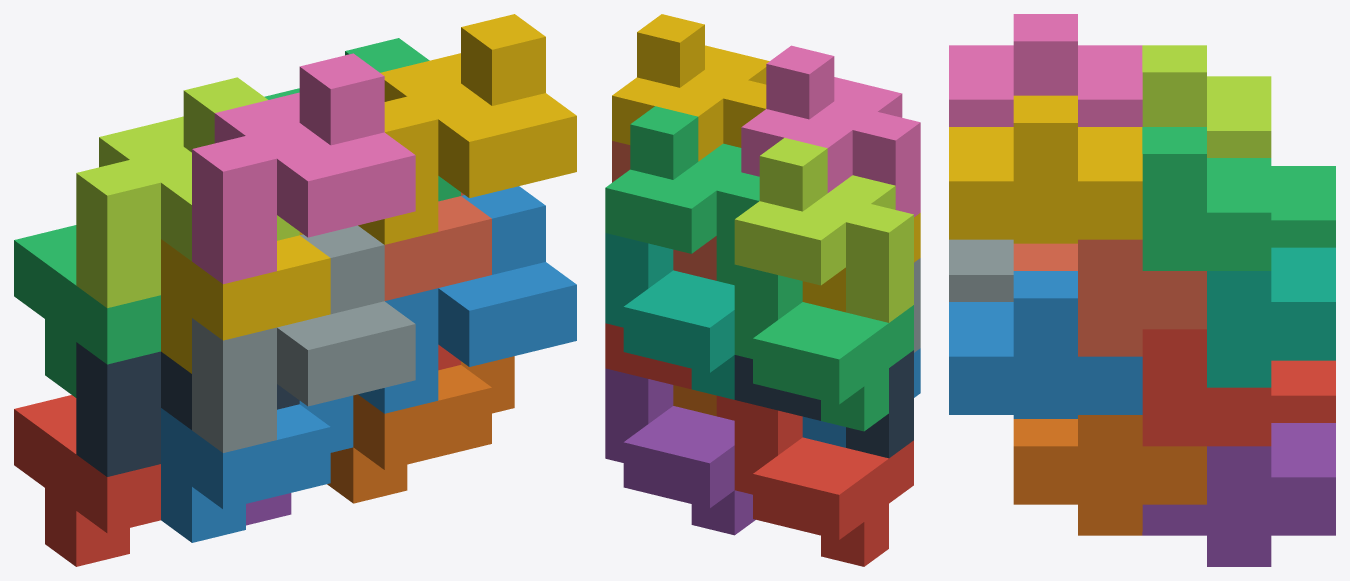
Rendered from tiling.obj.
The picture shows the model from 3 angles, left to right: view 1: azimuth 30°, elevation 25°; view 2: azimuth 150°, elevation 25°; view 3: azimuth 270°, elevation 25°; orthographic projection. The views are drawn at different scales.
Visible parts, largest first — view 1: copy_2_domain_4, copy_2_domain_8, copy_2_domain_2, copy_2_domain_3, copy_2_domain_6, copy_1_domain_2, copy_1_domain_1, copy_1_domain_6, copy_1_domain_4, copy_1_domain_3, copy_2_domain_1, copy_1_domain_8 (+2 smaller); view 2: copy_2_domain_3, copy_1_domain_1, copy_1_domain_3, copy_2_domain_4, copy_2_domain_7, copy_1_domain_5, copy_1_domain_7, copy_2_domain_8, copy_2_domain_1, copy_2_domain_5, copy_1_domain_8, copy_1_domain_4 (+3 smaller); view 3: copy_2_domain_8, copy_2_domain_6, copy_1_domain_6, copy_1_domain_5, copy_2_domain_7, copy_2_domain_4, copy_1_domain_7, copy_1_domain_8, copy_2_domain_5, copy_2_domain_3, copy_1_domain_3, copy_1_domain_1 (+1 smaller).
Part boxes in pixels (x1,y1,x2,y2): copy_2_domain_4: (192,53,415,284); copy_2_domain_8: (358,14,576,244); copy_2_domain_2: (192,225,415,452); copy_2_domain_3: (76,77,299,308); copy_2_domain_6: (358,186,576,413); copy_1_domain_2: (161,395,353,542); copy_1_domain_1: (14,395,160,566); copy_1_domain_6: (327,356,514,503); copy_1_domain_4: (161,232,330,373); copy_1_domain_3: (14,225,160,397); copy_2_domain_1: (76,342,299,476); copy_1_domain_8: (384,192,491,300); copy_2_domain_3: (734,137,913,322); copy_1_domain_1: (734,400,913,566); copy_1_domain_3: (734,264,913,431); copy_2_domain_4: (741,45,920,216); copy_2_domain_7: (605,106,759,285); copy_1_domain_5: (605,368,755,535); copy_1_domain_7: (605,233,734,399); copy_2_domain_8: (612,14,769,161); copy_2_domain_1: (734,350,913,458); copy_2_domain_5: (605,323,734,420); copy_1_domain_8: (612,141,716,280); copy_1_domain_4: (802,213,920,312); copy_2_domain_8: (949,95,1142,243); copy_2_domain_6: (949,271,1142,418); copy_1_domain_6: (1013,415,1206,535); copy_1_domain_5: (1142,423,1335,566); copy_2_domain_7: (1142,127,1271,270); copy_2_domain_4: (949,14,1142,126); copy_1_domain_7: (1207,247,1335,387); copy_1_domain_8: (1013,239,1206,356); copy_2_domain_5: (1142,329,1271,446); copy_2_domain_3: (1142,45,1271,157); copy_1_domain_3: (1271,166,1335,247); copy_1_domain_1: (1271,360,1335,422).
Size of the model in its own units: 7 by 9 by 6.
